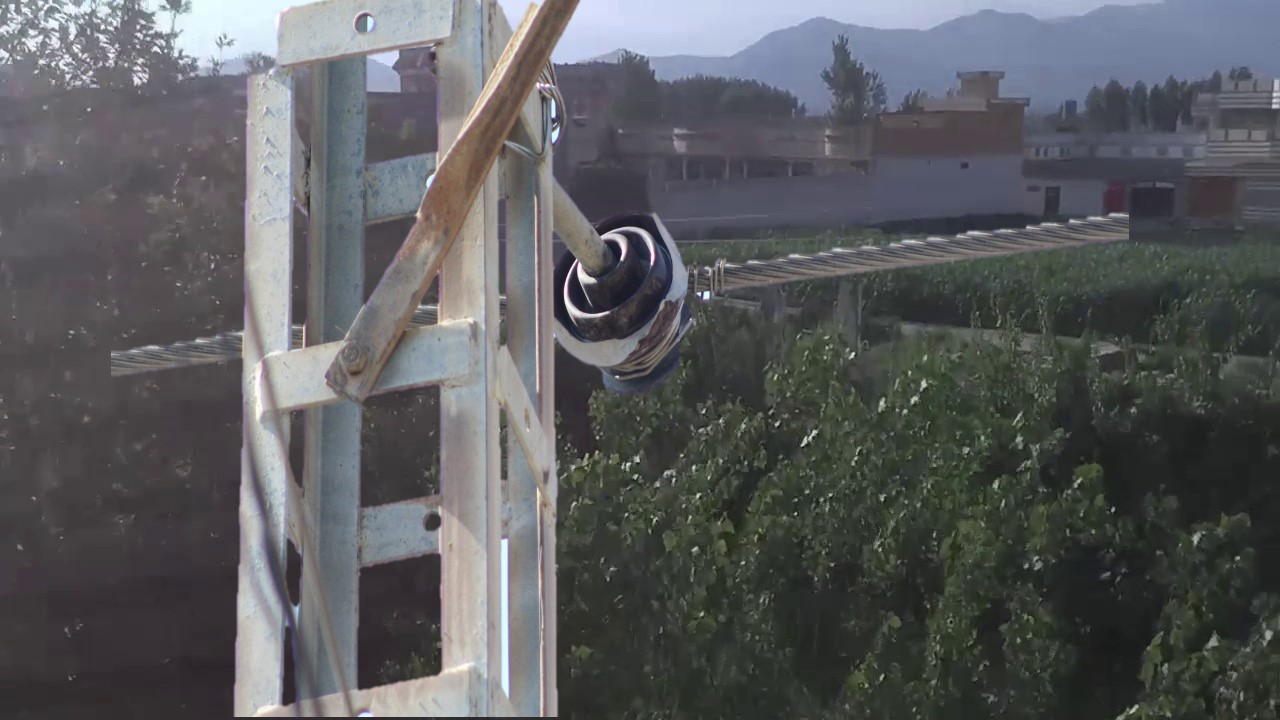defect_pin: (551, 208, 705, 404)
